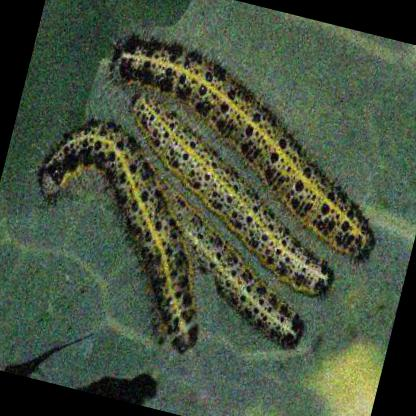pieris: (105, 35, 374, 257), (129, 91, 329, 294), (35, 114, 199, 351)
